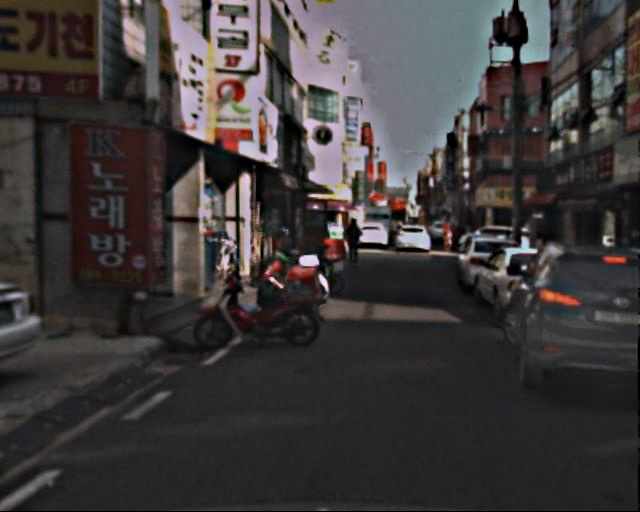person: (345, 218, 366, 269), (442, 221, 462, 253)
